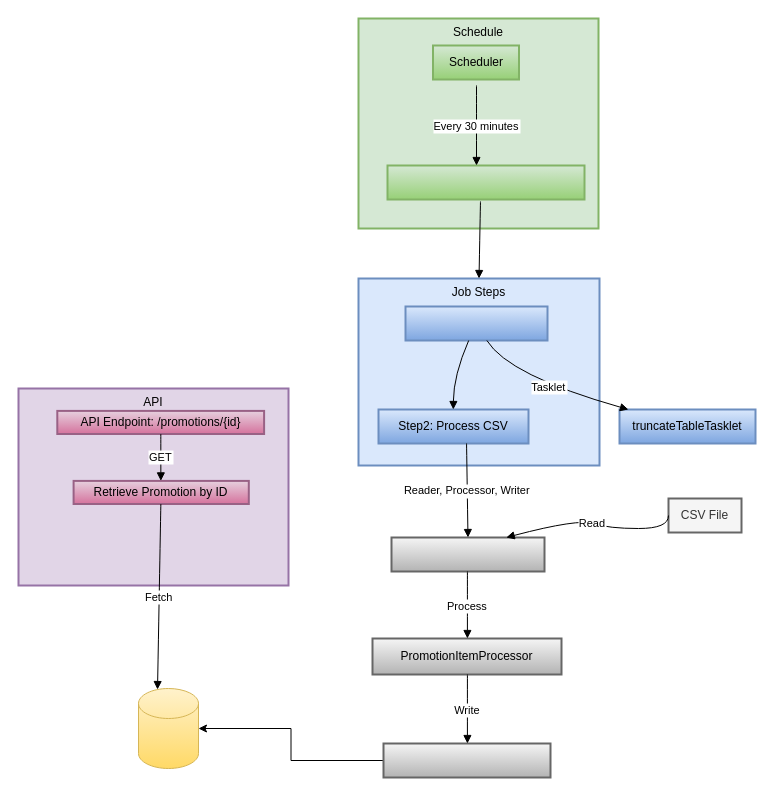
Image size: 773x795. Some labels were removed from this diagram. Here are the shapes that lost their labels. From the top down, the centre of each, then its label:
the point at 485,182: Job: importPromotionJob
the point at 476,323: Step1: Truncate Table
the point at 467,554: FlatFileItemReader
the point at 168,728: H2 DB
the point at 466,760: JdbcBatchItemWriter
